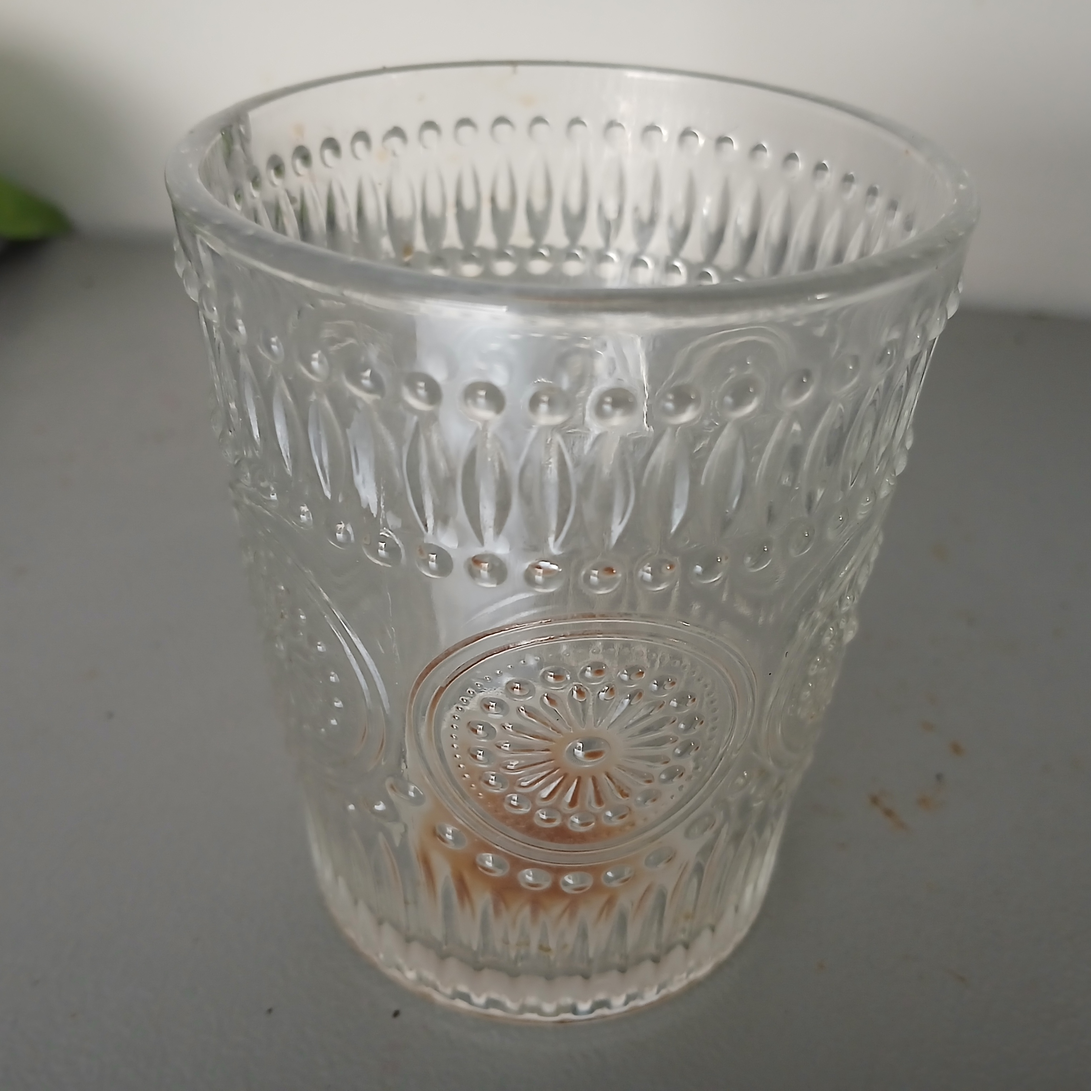Vidrio: (167, 59, 984, 1024)
